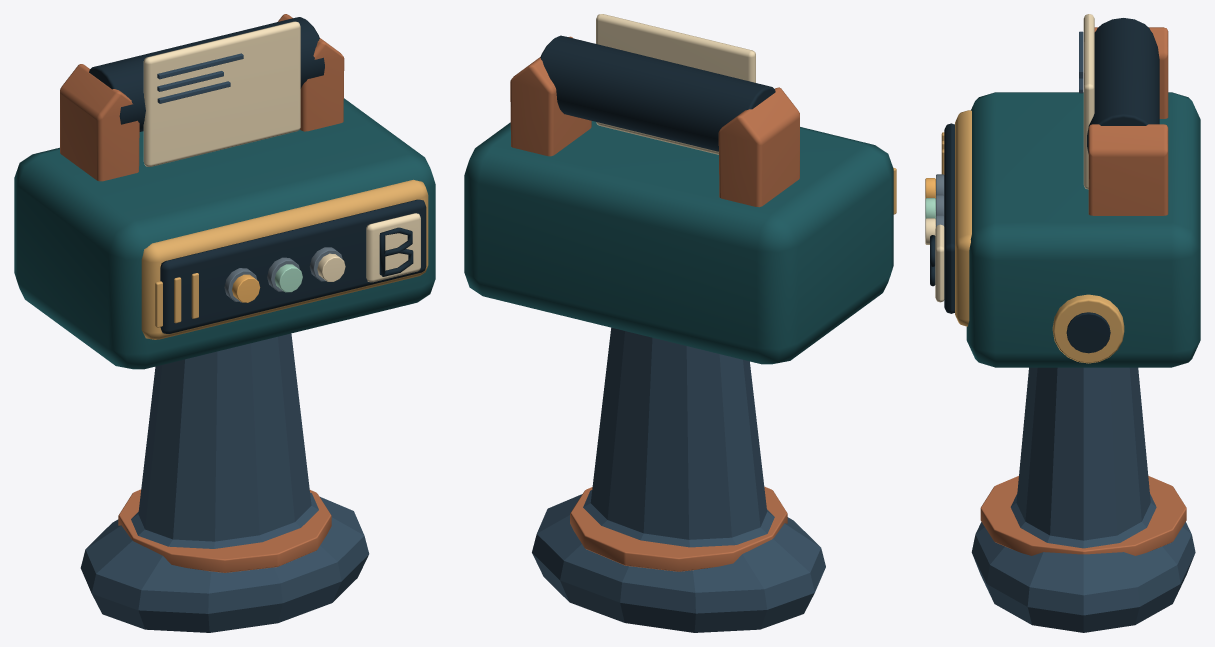
The picture shows the model from 3 angles, left to right: view 1: azimuth 30°, elevation 25°; view 2: azimuth 150°, elevation 25°; view 3: azimuth 270°, elevation 25°; orthographic projection. The views are drawn at different scales.
Visible parts, largest first — view 1: PR014 workshop assembly; view 2: PR014 workshop assembly; view 3: PR014 workshop assembly.
Boxes of the visible parts, x1=… form: PR014 workshop assembly: x1=14, y1=14, x2=435, y2=632; PR014 workshop assembly: x1=464, y1=14, x2=896, y2=632; PR014 workshop assembly: x1=925, y1=14, x2=1200, y2=632.
Bounding box in the file's own units: 0.762 × 1.17 × 0.553.
